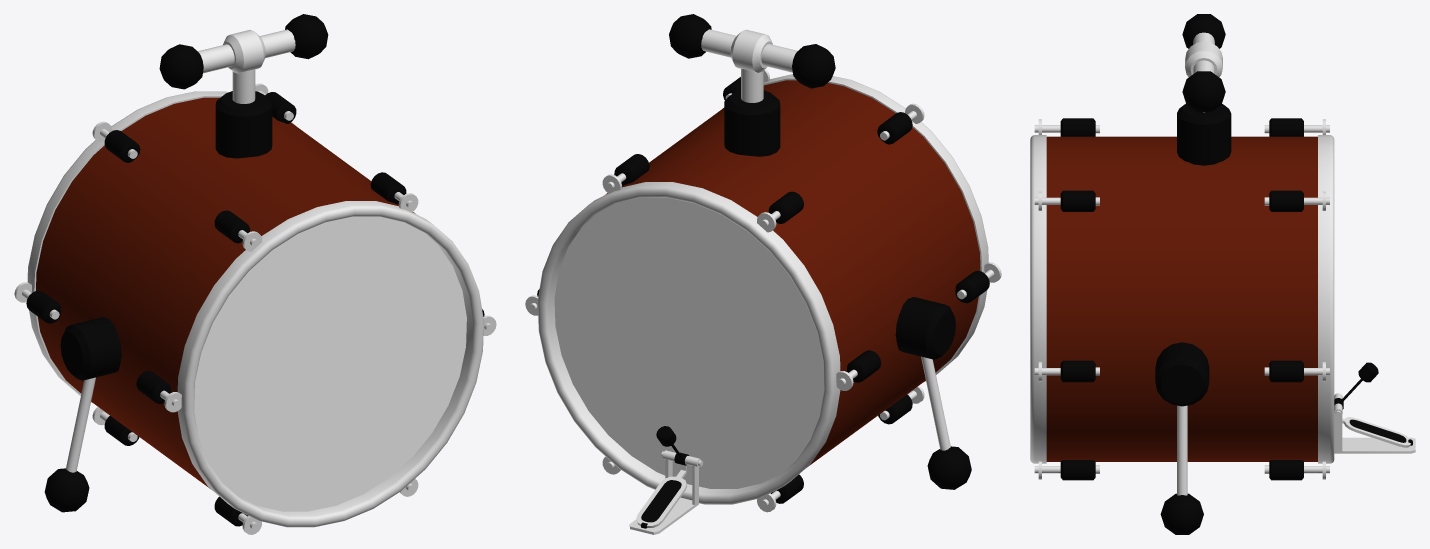
File: Kick.glb
3 views of the same model, side by side, from view 1: azimuth 30°, elevation 25°; view 2: azimuth 150°, elevation 25°; view 3: azimuth 270°, elevation 25° (orthographic). The views are drawn at different scales.
Parts seen in each view (by area): view 1: Kick; view 2: Kick; view 3: Kick.
Part boxes in pixels (<box>): Kick: <box>14,14,496,534</box>; Kick: <box>525,14,1001,534</box>; Kick: <box>1030,14,1415,534</box>.
Size of the model in its own units: 0.8361 by 0.8224 by 0.7102.
